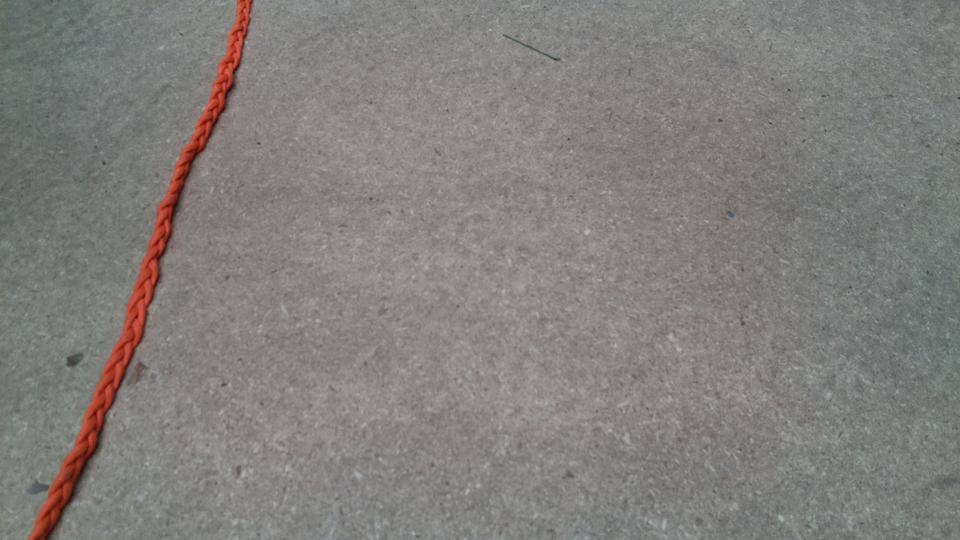rope: (21, 1, 258, 540)
